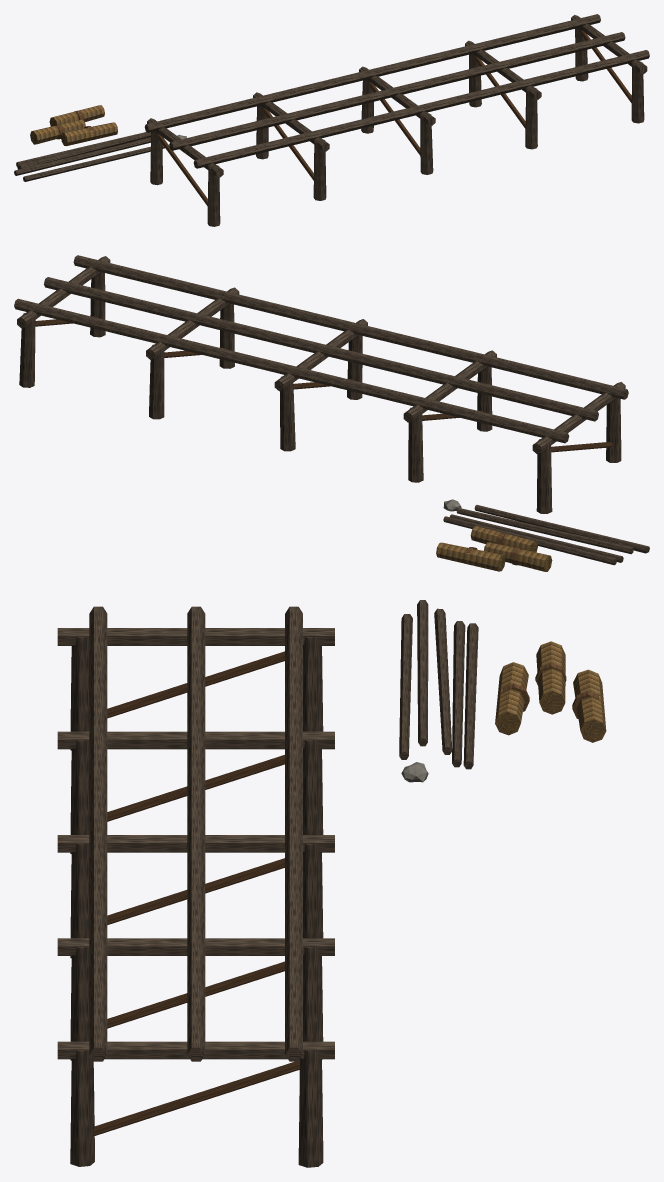
Rendered from cantiere_ponte.glb.
The picture shows the model from 3 angles, top to bottom: view 1: azimuth 30°, elevation 25°; view 2: azimuth 150°, elevation 25°; view 3: azimuth 270°, elevation 25°; orthographic projection. The views are drawn at different scales.
Visible parts, largest first — view 1: cantiere_ponte; view 2: cantiere_ponte; view 3: cantiere_ponte.
Part boxes in pixels (box(x1,y1,x2,y2)): cantiere_ponte: box(14, 14, 649, 226); cantiere_ponte: box(14, 255, 649, 571); cantiere_ponte: box(57, 600, 606, 1167).
Size of the model in its own units: 15.61 by 1.73 by 6.73.
4 materials, 4 textured.
